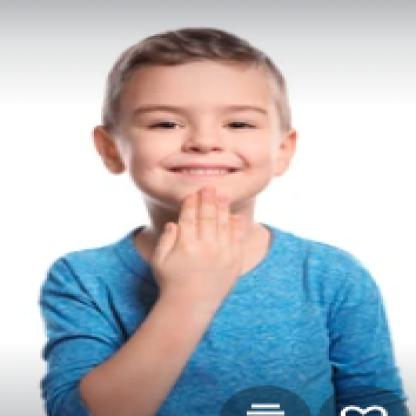thankyou: (138, 170, 259, 311)
